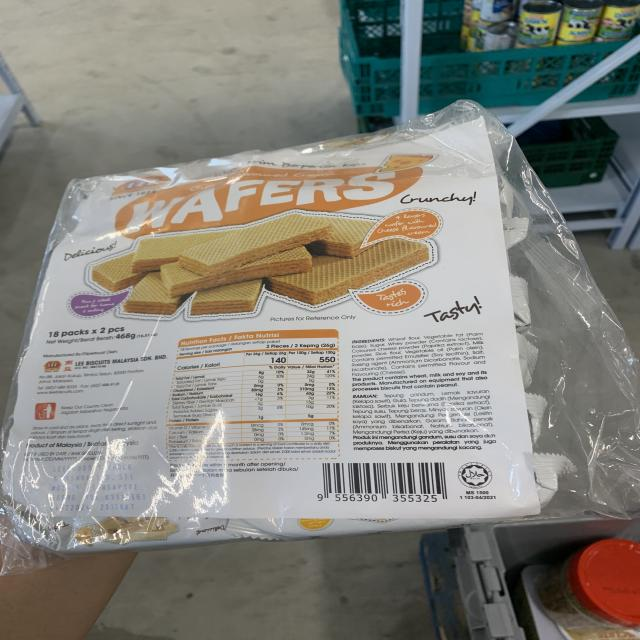object_name: (23, 145, 557, 523)
